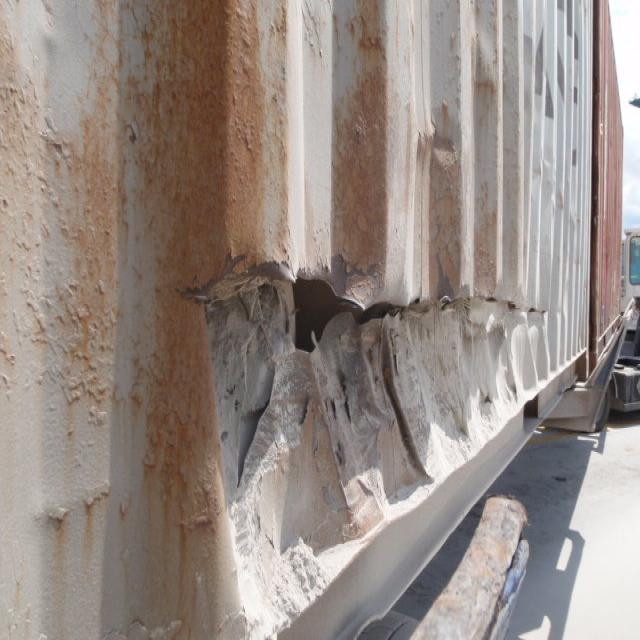hole: (193, 237, 554, 353)
